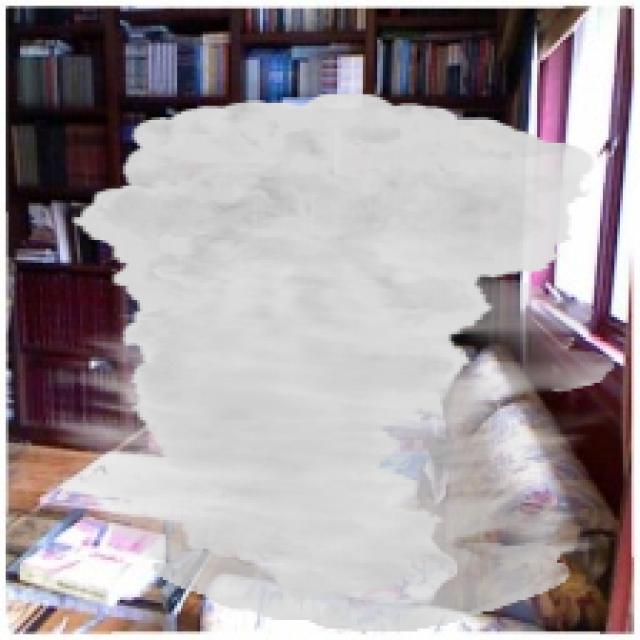smoke: (49, 91, 614, 632)
